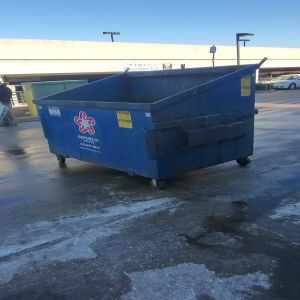Dumpster: (36, 67, 261, 191)
Person: (1, 80, 18, 127)
